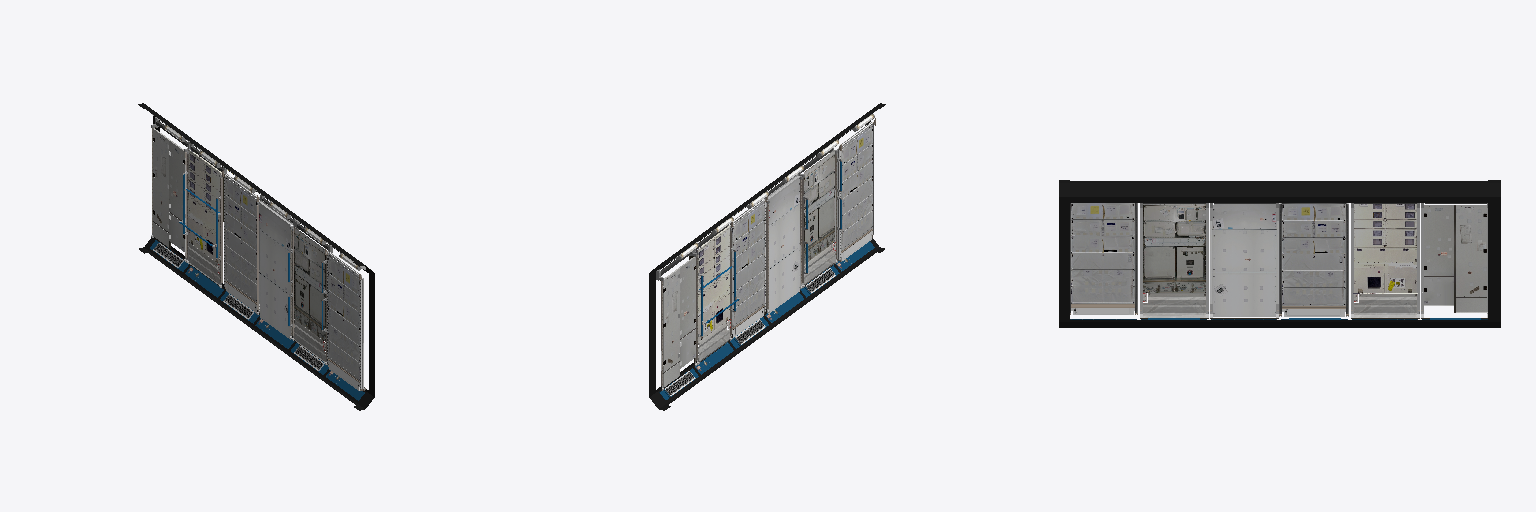
3 views of the same model, side by side, from view 1: azimuth 30°, elevation 25°; view 2: azimuth 150°, elevation 25°; view 3: azimuth 270°, elevation 25° (orthographic).
Size of the model in its own units: 0.2764 by 2.42 by 6.72.
Materials: 29 (13 with a texture image).